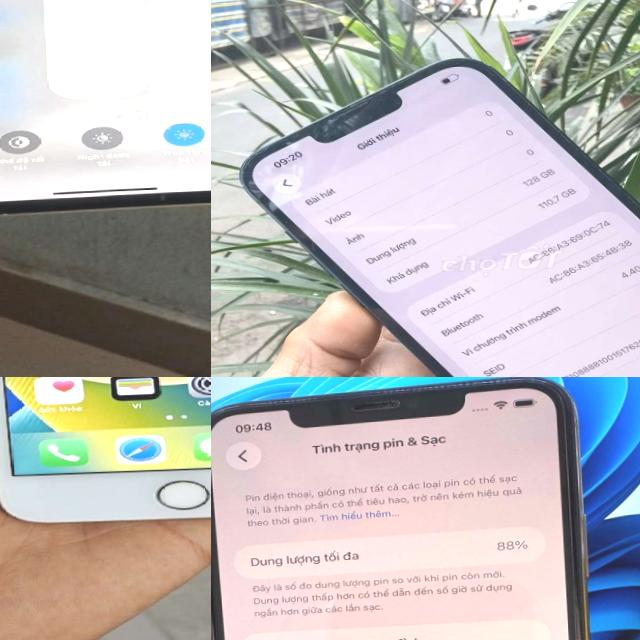gen_11: (211, 377, 611, 640)
gen_14: (226, 42, 640, 377)
gen_7_8: (0, 377, 211, 533)
gen_x_xs: (0, 0, 211, 223)
